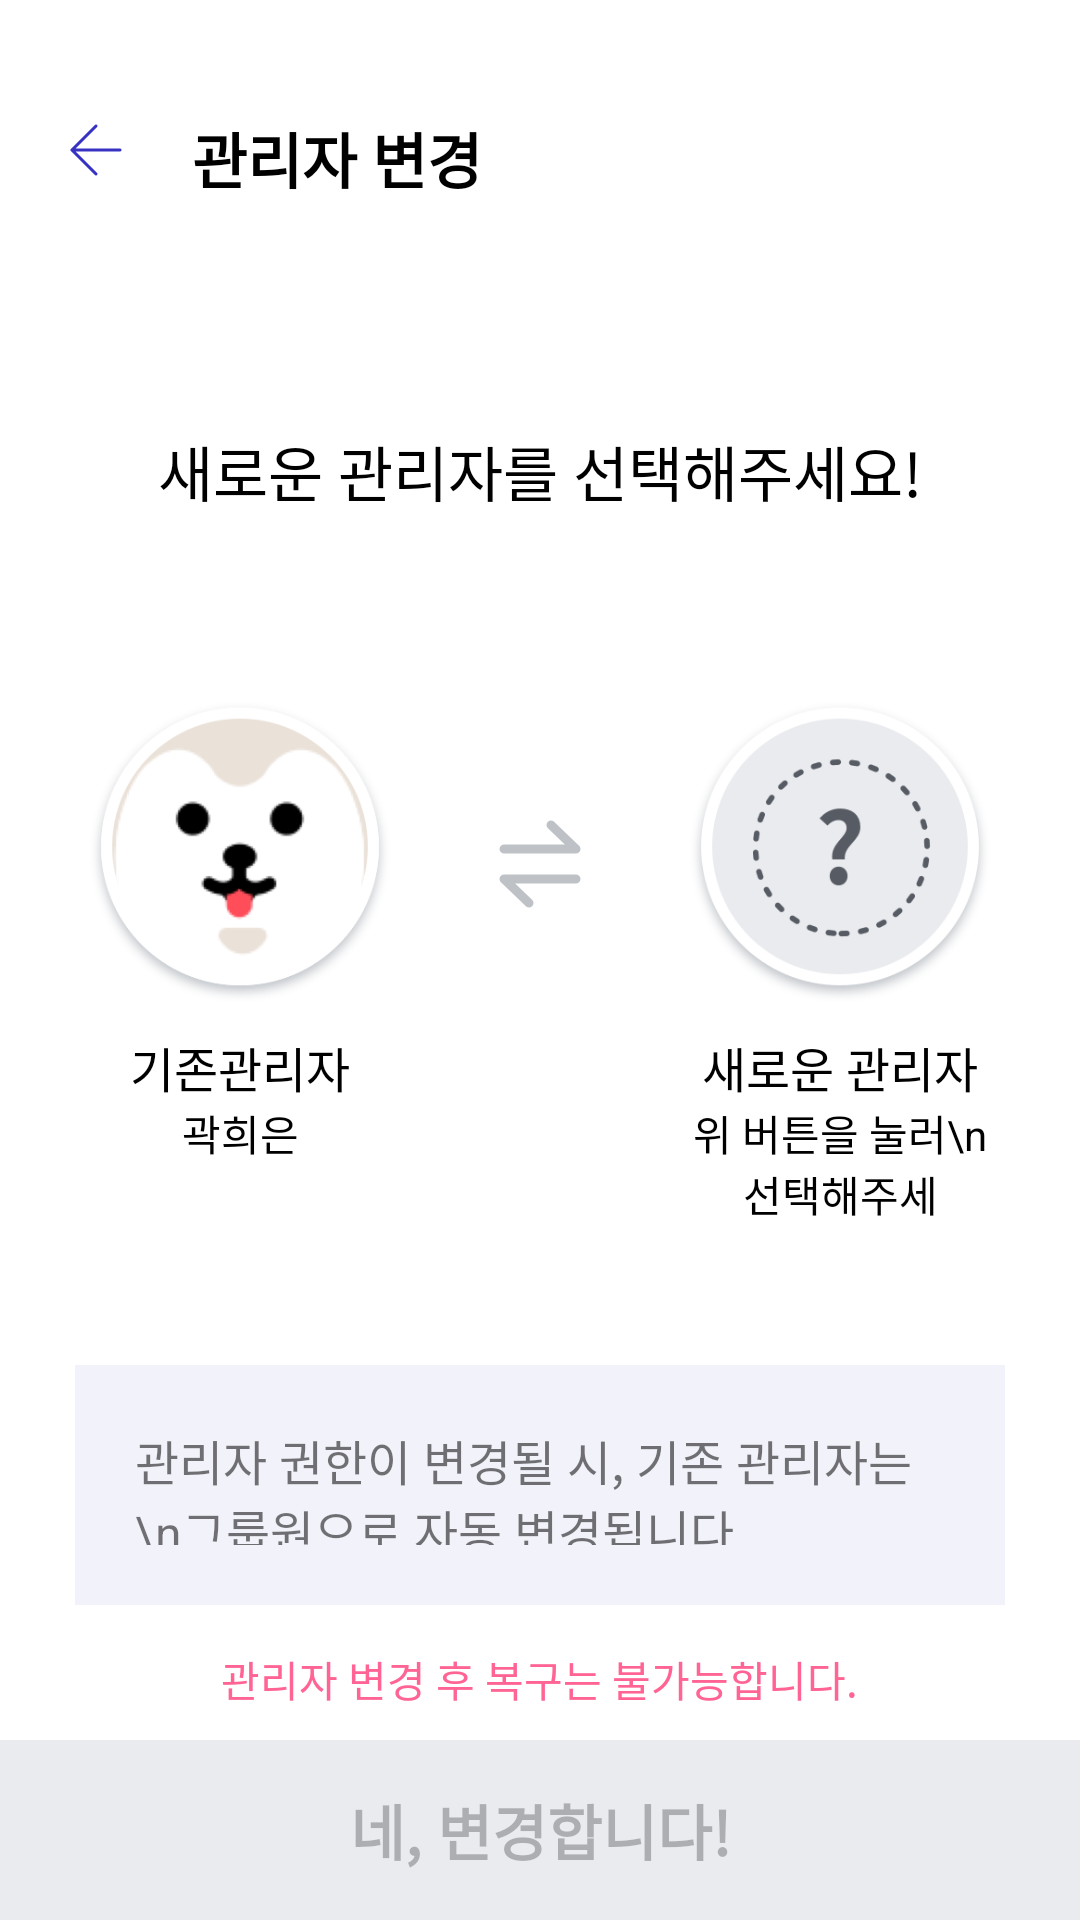

Icon click points for this 1080×1920 phone screenshot, format (x,y):
comm tendering off: (540,864)
setting empty admin: (840,875)
